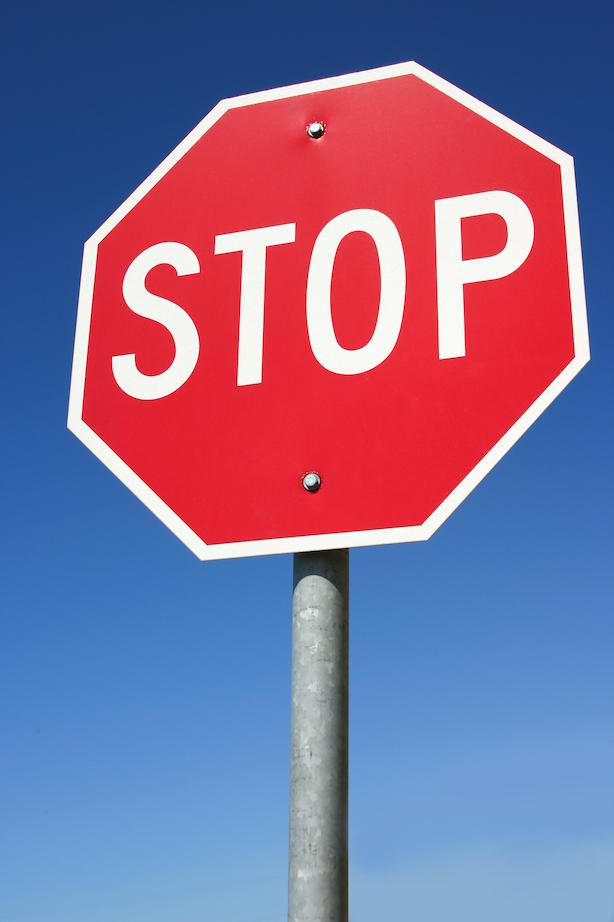STOP: (61, 54, 600, 563)
